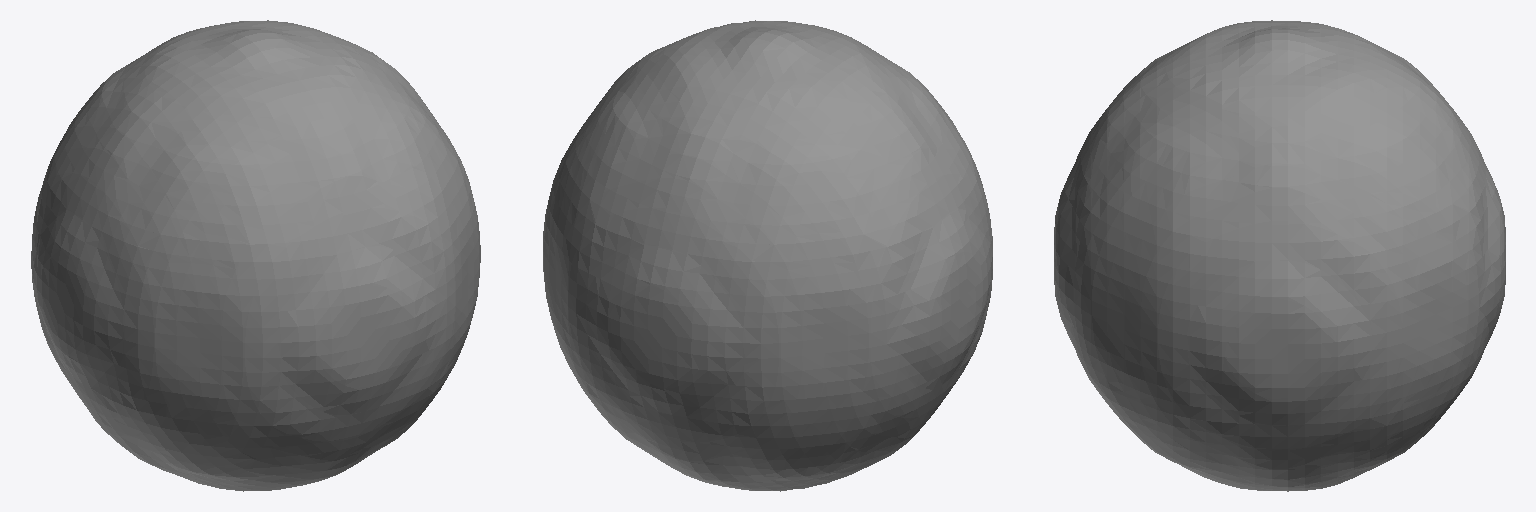
robot.urdf — cube.urdf:
<?xml version="0.0" ?> 
<robot name="cube.urdf"> 
<link name="legobrick"> 
<contact> 
<lateral_friction value="5.0"/> 
<rolling_friction value="0.0"/> 
<contact_cfm value="0.0"/> 
<contact_erp value="1.0"/> 
</contact> 
<inertial> 
<origin rpy="0 0 0" xyz="0.0 0.0 0.0"/> 
<mass value=".01"/> 
<inertia ixx="1" ixy="0" ixz="0" iyy="1" iyz="0" izz="1"/> 
</inertial> 
<visual> 
<origin rpy="1.570796 0 0" xyz="-0.030624937698478318 0.030624627124725804 -0.0306245463123669"/> 
<geometry> 
<mesh filename="B01_0.obj" scale="0.0006828788447875941 0.0006828788447875941 0.0006828788447875941"/> 
</geometry> 
<material name="yellow"> 
<color rgba="0.6 0.6 0.6 1"/> 
</material> 
</visual> 
<collision> 
<origin rpy="1.570796 0 0" xyz="-0.030624937698478318 0.030624627124725804 -0.0306245463123669"/> 
<geometry> 
<mesh filename="B01_0.obj" scale="0.0006828788447875941 0.0006828788447875941 0.0006828788447875941"/> 
</geometry> 
</collision> 
</link> 
</robot>

--- What the picture shows (computed from the rendered views, not written in the file) ---
The picture shows the robot from 3 angles, left to right: view 1: azimuth 30°, elevation 25°; view 2: azimuth 150°, elevation 25°; view 3: azimuth 270°, elevation 25°; orthographic projection.
Model cube.urdf with 1 links and 0 joints (none), rooted at legobrick, posed every joint at zero.
Links seen in each view (by area): view 1: legobrick; view 2: legobrick; view 3: legobrick.
Boxes of the visible links, bbox=[...] form: legobrick: bbox=[31, 20, 480, 491]; legobrick: bbox=[543, 20, 992, 491]; legobrick: bbox=[1054, 20, 1505, 491].
Size in the robot's own frame: 0.056 by 0.056 by 0.0599 metres.
Meshes: 1 distinct files referenced, 1 mesh visuals loaded (1 OBJ).
